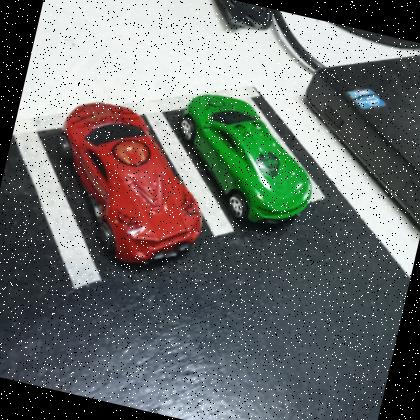Car: (63, 104, 201, 264), (185, 95, 312, 225)
